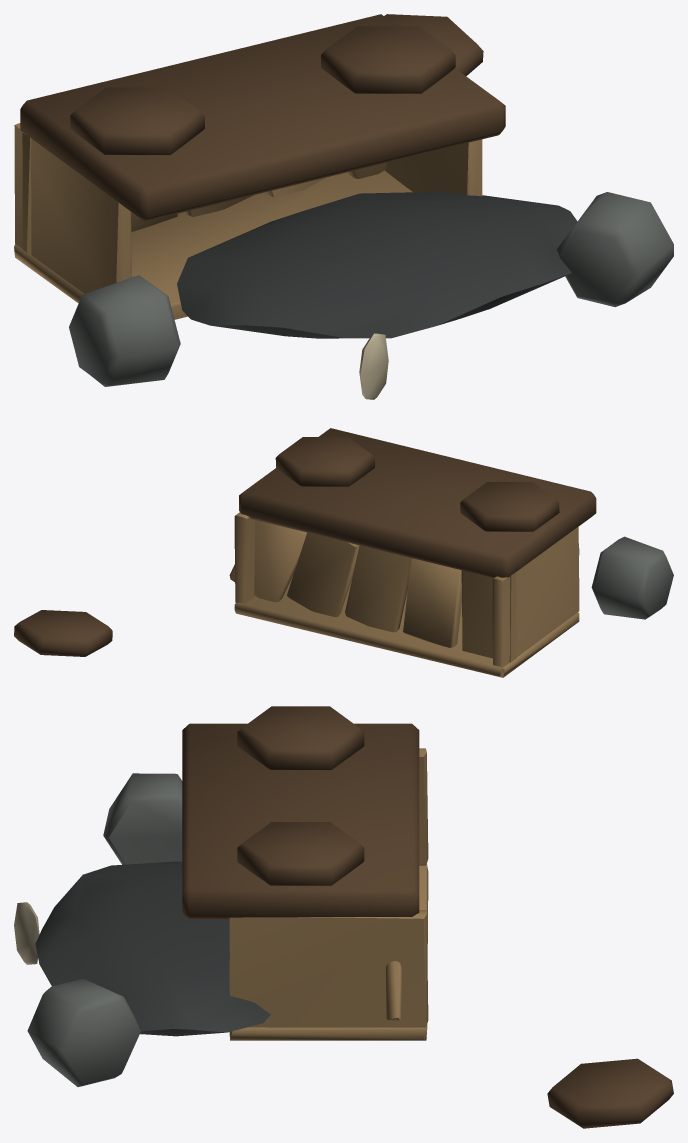
File: tin_cart_b_lod1.glb
The picture shows the model from 3 angles, top to bottom: view 1: azimuth 30°, elevation 25°; view 2: azimuth 150°, elevation 25°; view 3: azimuth 270°, elevation 25°; orthographic projection. The views are drawn at different scales.
Visible parts, largest first — view 1: Surface.001; view 2: Surface.001; view 3: Surface.001.
Boxes of the visible parts, x1,y1,x2,y2 form: Surface.001: [14, 14, 673, 399]; Surface.001: [14, 428, 673, 677]; Surface.001: [14, 706, 673, 1128].
Bounding box in the file's own units: 3.7 × 1.18 × 3.62.
